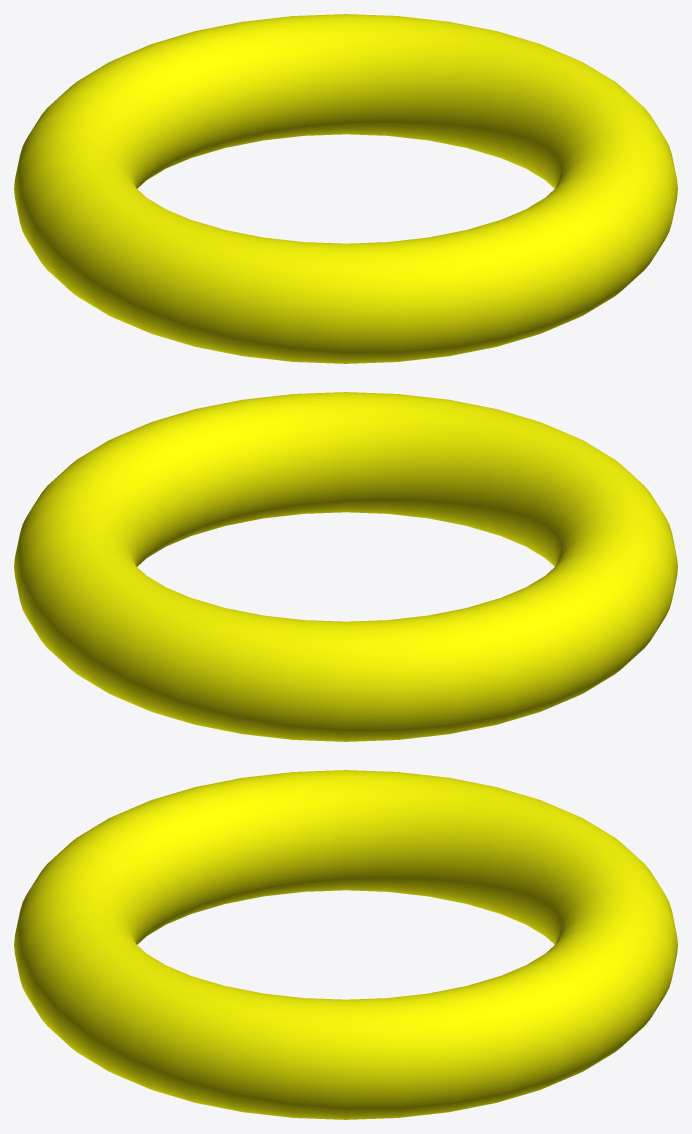
The picture shows the model from 3 angles, top to bottom: view 1: azimuth 30°, elevation 25°; view 2: azimuth 150°, elevation 25°; view 3: azimuth 270°, elevation 25°; orthographic projection.
Visible parts, largest first — view 1: Crystal; view 2: Crystal; view 3: Crystal.
Part boxes in pixels (x1,y1,x2,y2): Crystal: (14,14,677,363); Crystal: (14,392,677,741); Crystal: (14,770,677,1119).
Bounding box in the file's own units: 0.2794 × 0.0508 × 0.2794.
